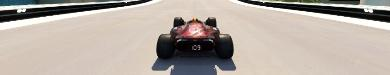Car: (155, 16, 233, 59)
curve: (0, 0, 389, 74)
obstacles-Borders: (0, 0, 151, 24)
